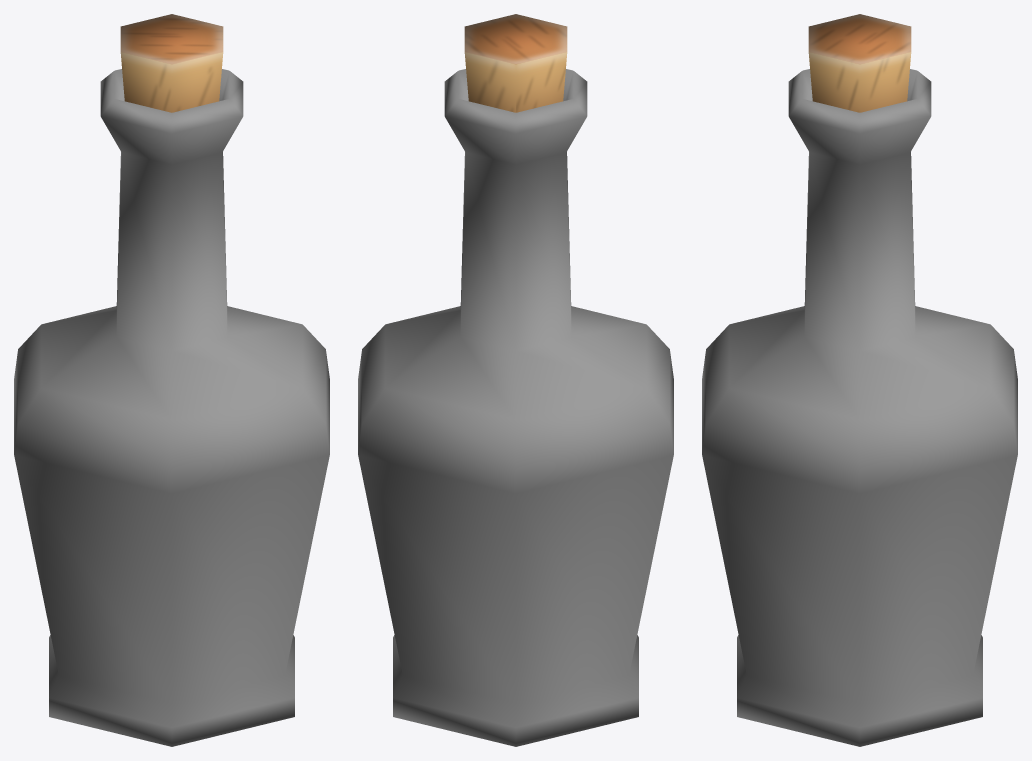
File: Cordial.fbx
The picture shows the model from 3 angles, left to right: view 1: azimuth 30°, elevation 25°; view 2: azimuth 150°, elevation 25°; view 3: azimuth 270°, elevation 25°; orthographic projection.
Visible parts, largest first — view 1: Cordial, Cork; view 2: Cordial, Cork; view 3: Cordial, Cork.
Boxes of the visible parts, box(x1,y1,x2,y2) form: Cordial: box(14, 69, 329, 746); Cork: box(120, 14, 223, 112); Cordial: box(358, 69, 673, 746); Cork: box(464, 14, 567, 112); Cordial: box(702, 69, 1017, 746); Cork: box(808, 14, 911, 112).
Bounding box in the file's own units: 12.28 × 24.09 × 10.64.
